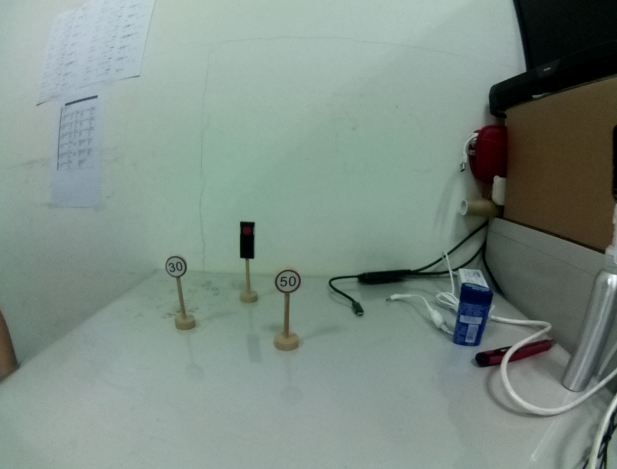Red: (238, 219, 256, 259)
Speed30: (165, 254, 188, 278)
Speed50: (274, 268, 302, 296)
